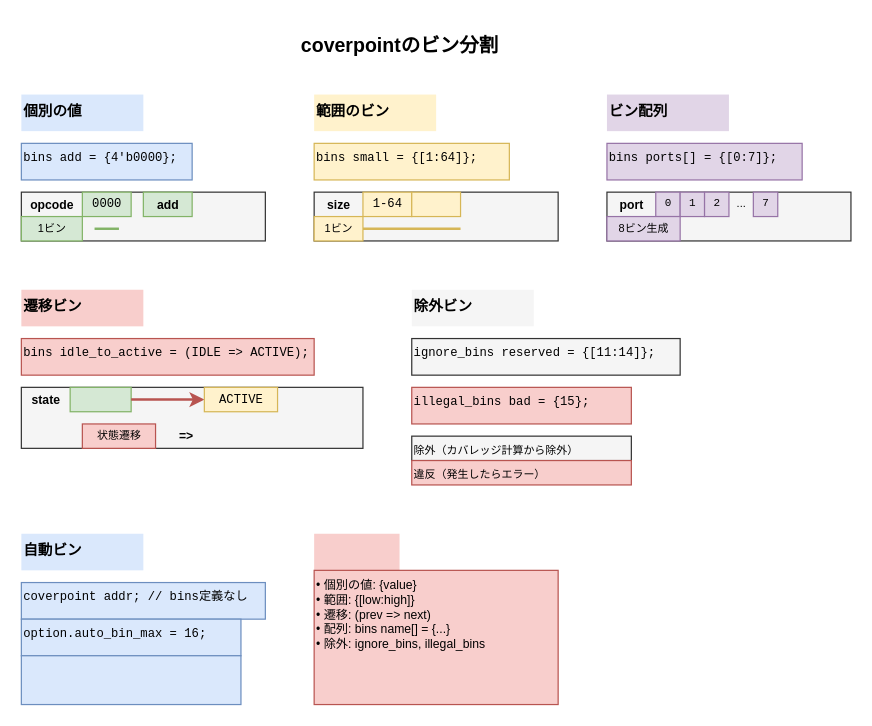
This 872x726 diagram has some shape labels left out. Here are the shapes that lost their labels. From the top down, the centre of each, then its label:
point (436, 204): small
point (100, 399): IDLE
point (356, 551): ポイント
point (130, 680): → ツールが自動的にビン生成 → 最大ビン数を制限可能
